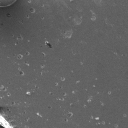corrosion: (61, 29, 73, 40), (43, 40, 53, 49), (16, 53, 24, 60), (18, 70, 26, 77), (65, 112, 74, 118), (86, 96, 92, 103), (29, 7, 36, 13), (106, 89, 112, 96), (26, 90, 32, 96), (90, 15, 96, 21), (60, 76, 65, 82), (6, 91, 11, 97), (36, 112, 42, 117), (70, 89, 76, 94), (95, 116, 100, 121)
